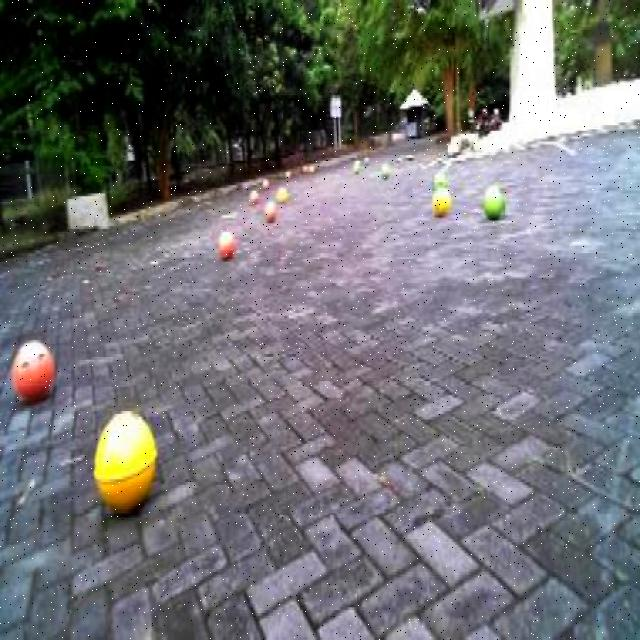buoy: (86, 398, 163, 519), (4, 321, 60, 411), (477, 174, 507, 231), (210, 217, 239, 271), (426, 178, 454, 228), (260, 188, 280, 234), (377, 153, 392, 183)
